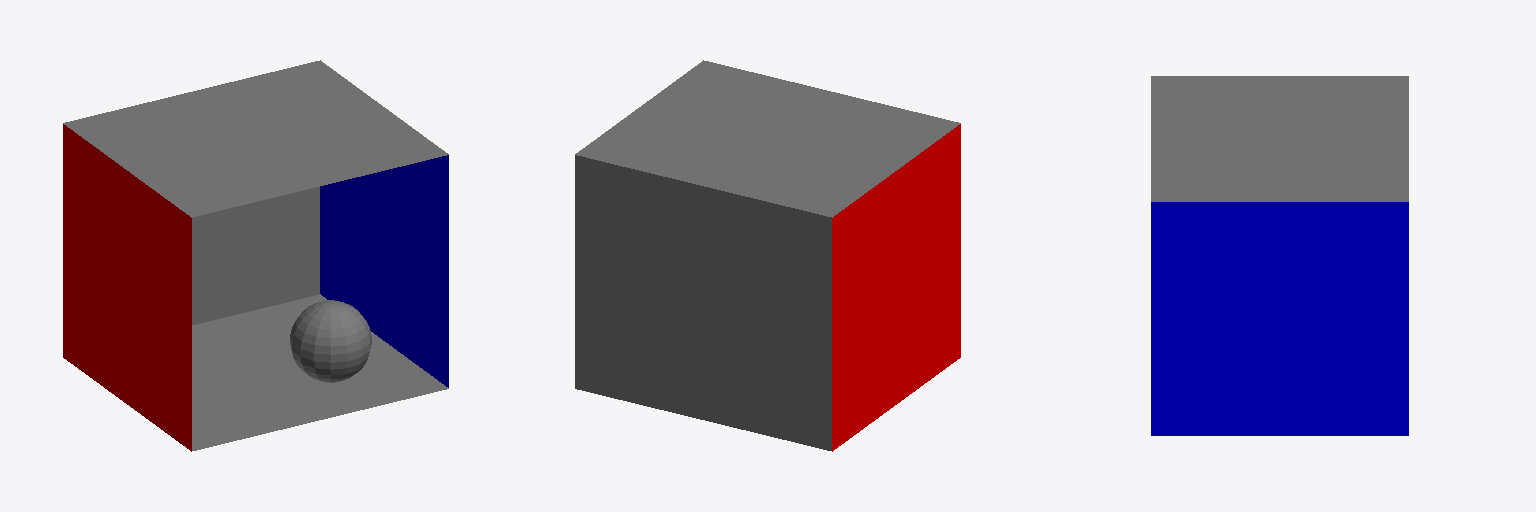
File: nomirror.obj
The picture shows the model from 3 angles: view 1: azimuth 30°, elevation 25°; view 2: azimuth 150°, elevation 25°; view 3: azimuth 270°, elevation 25°; orthographic projection.
Visible parts, largest first — view 1: pCube1, pSphere2; view 2: pCube1; view 3: pCube1.
Boxes of the visible parts, x1=… form: pCube1: x1=63, y1=60, x2=448, y2=451; pSphere2: x1=290, y1=300, x2=371, y2=382; pCube1: x1=575, y1=60, x2=960, y2=451; pCube1: x1=1151, y1=76, x2=1408, y2=435.
Bounding box in the file's own units: 11.53 × 10 × 10.